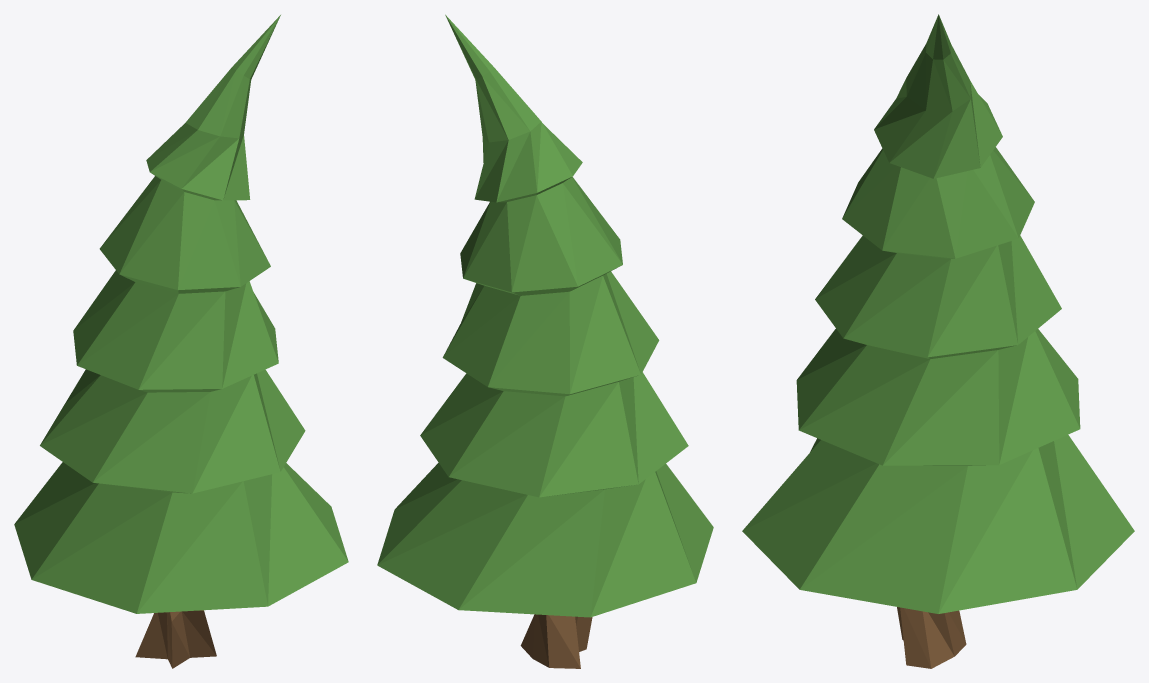
File: tree3d-153.glb
The picture shows the model from 3 angles, left to right: view 1: azimuth 30°, elevation 25°; view 2: azimuth 150°, elevation 25°; view 3: azimuth 270°, elevation 25°; orthographic projection. The views are drawn at different scales.
Visible parts, largest first — view 1: tree3d-153; view 2: tree3d-153; view 3: tree3d-153.
Boxes of the visible parts, x1=… form: tree3d-153: x1=14, y1=15, x2=348, y2=668; tree3d-153: x1=377, y1=14, x2=713, y2=668; tree3d-153: x1=742, y1=14, x2=1134, y2=668.
Bounding box in the file's own units: 0.5123 × 1 × 0.5123.
